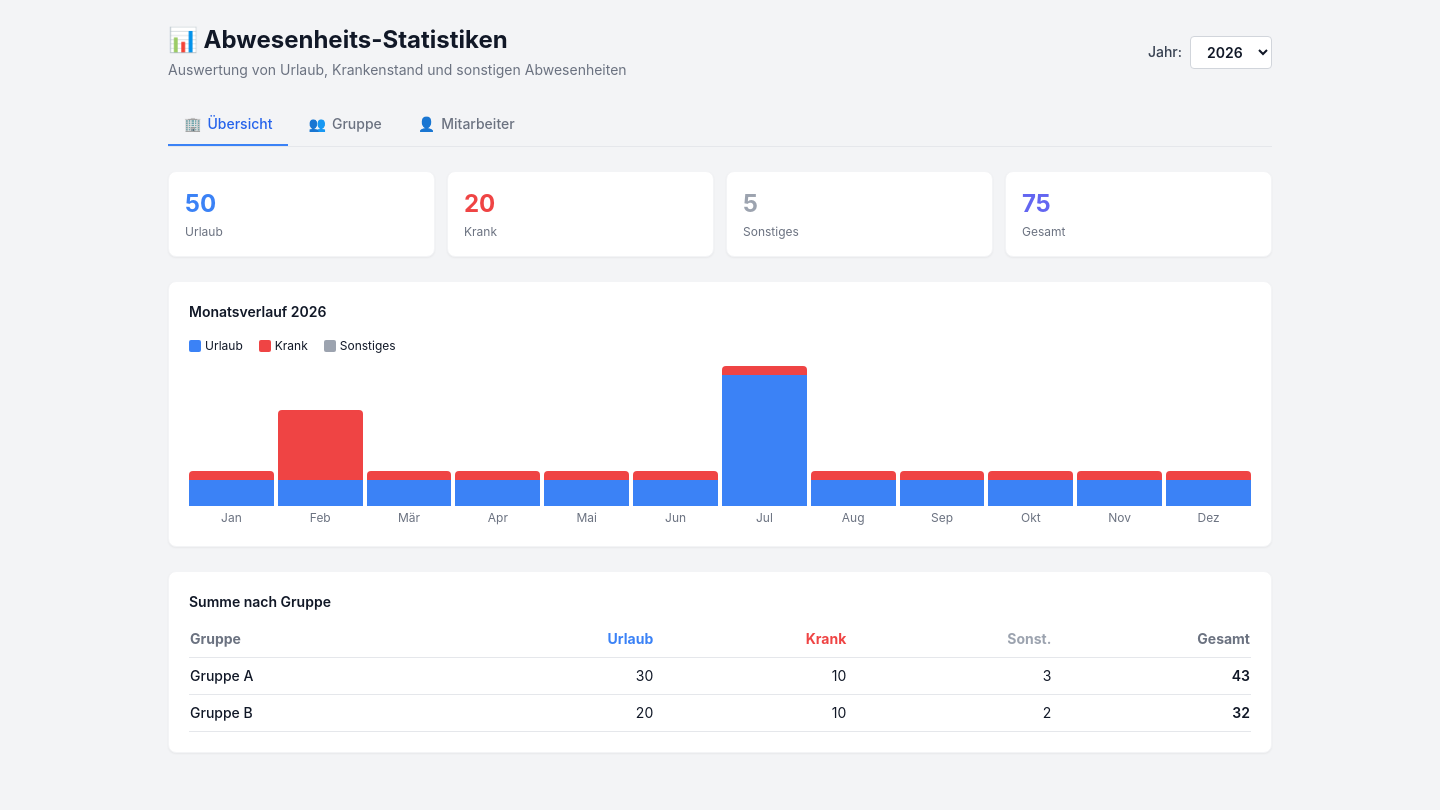
Scenario: AbsenceStats › group tab shows placeholder when no group selected
The width and height of the screenshot is (1440, 810).
Click the tab "👥 Gruppe" at [345, 125], box [292,104,398,146]
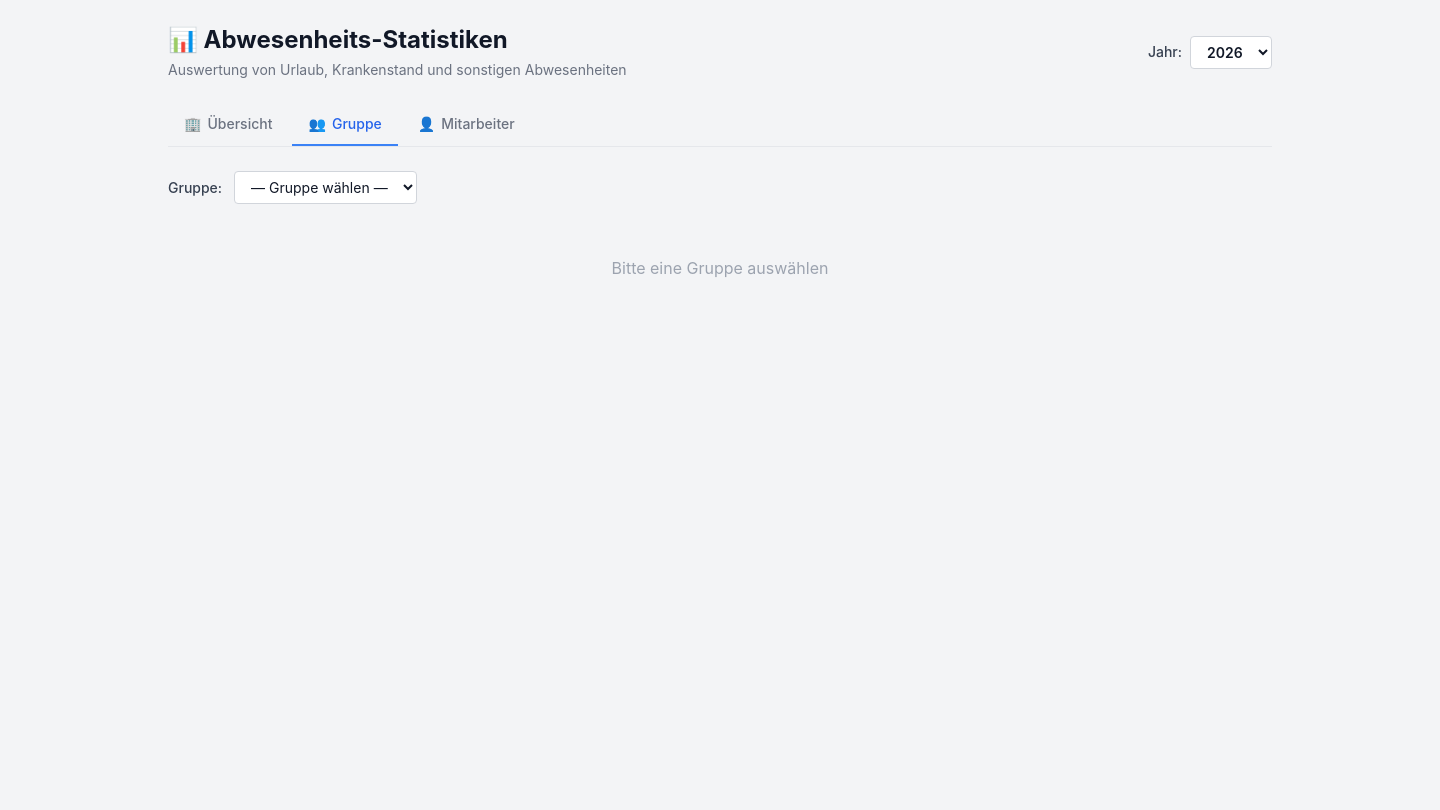
Now the text "Bitte eine Gruppe auswählen" is shown, box [612,258,828,278]
